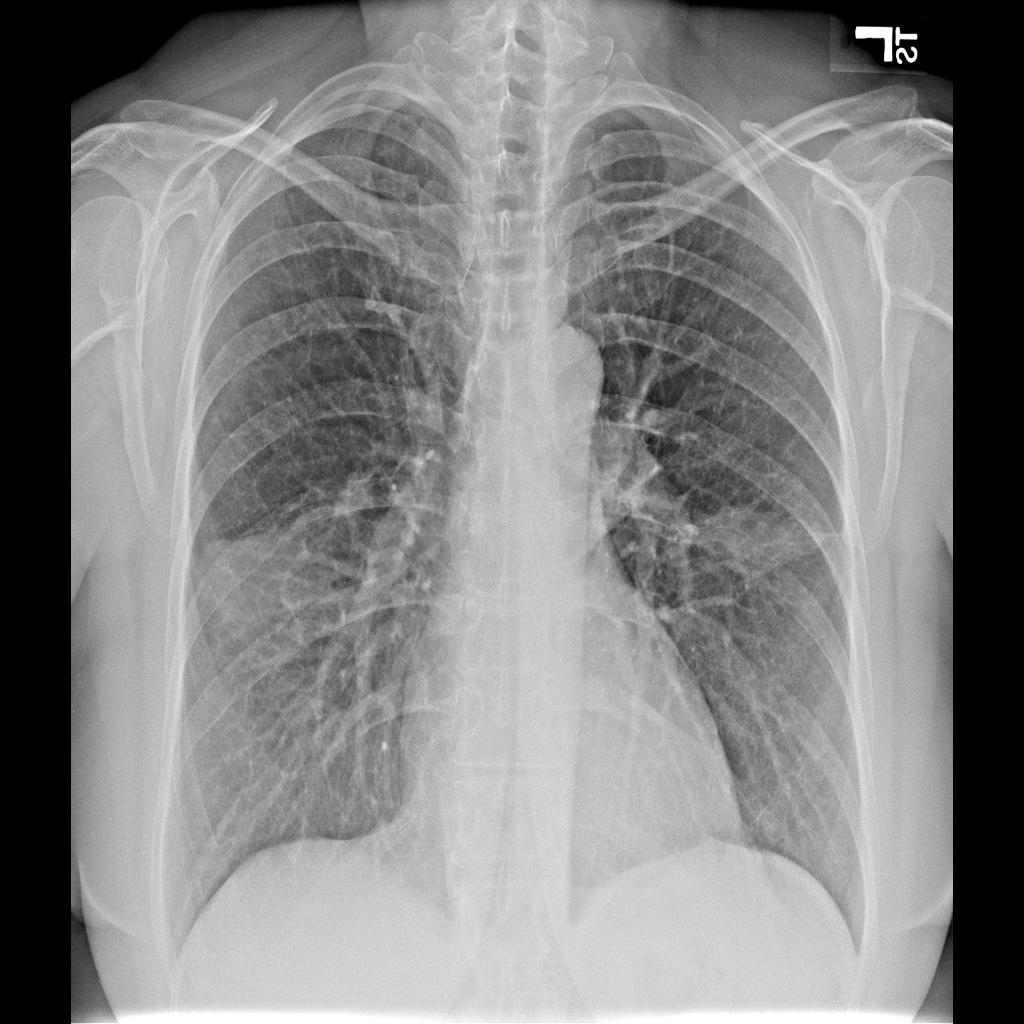Nodule: (200, 540, 303, 669), (699, 509, 823, 579), (337, 474, 376, 517)
